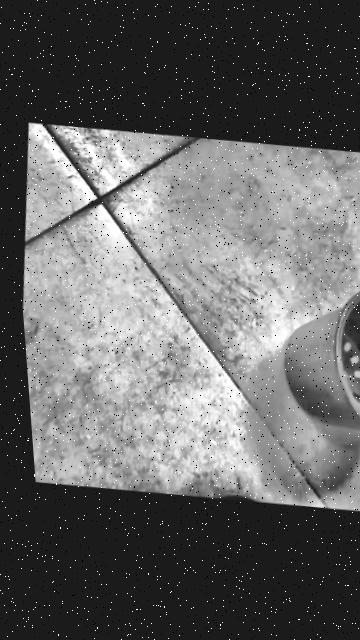pot: (271, 275, 360, 443)
